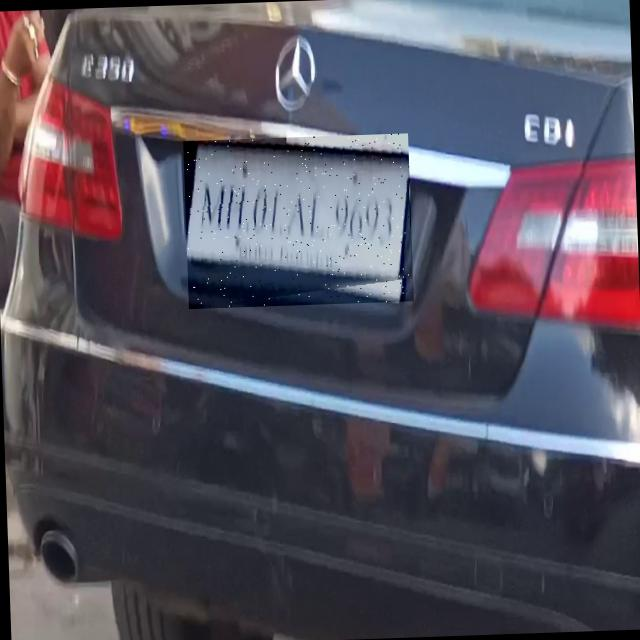Plate: (184, 134, 415, 310)
